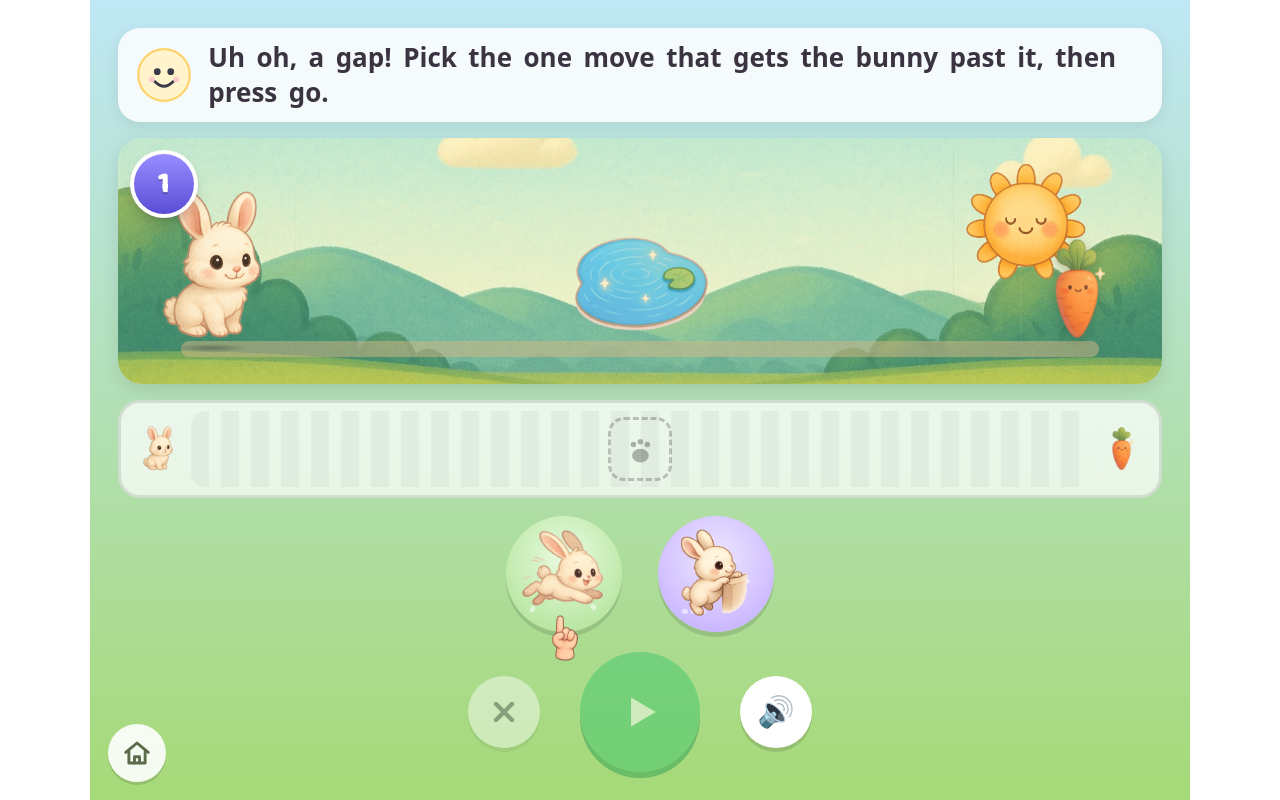
Scenario: Game — scene toys › a toy poked over the win line still lets the win choices appear
Click the button named "Jump".
click(564, 574)  # box [506,516,622,632]
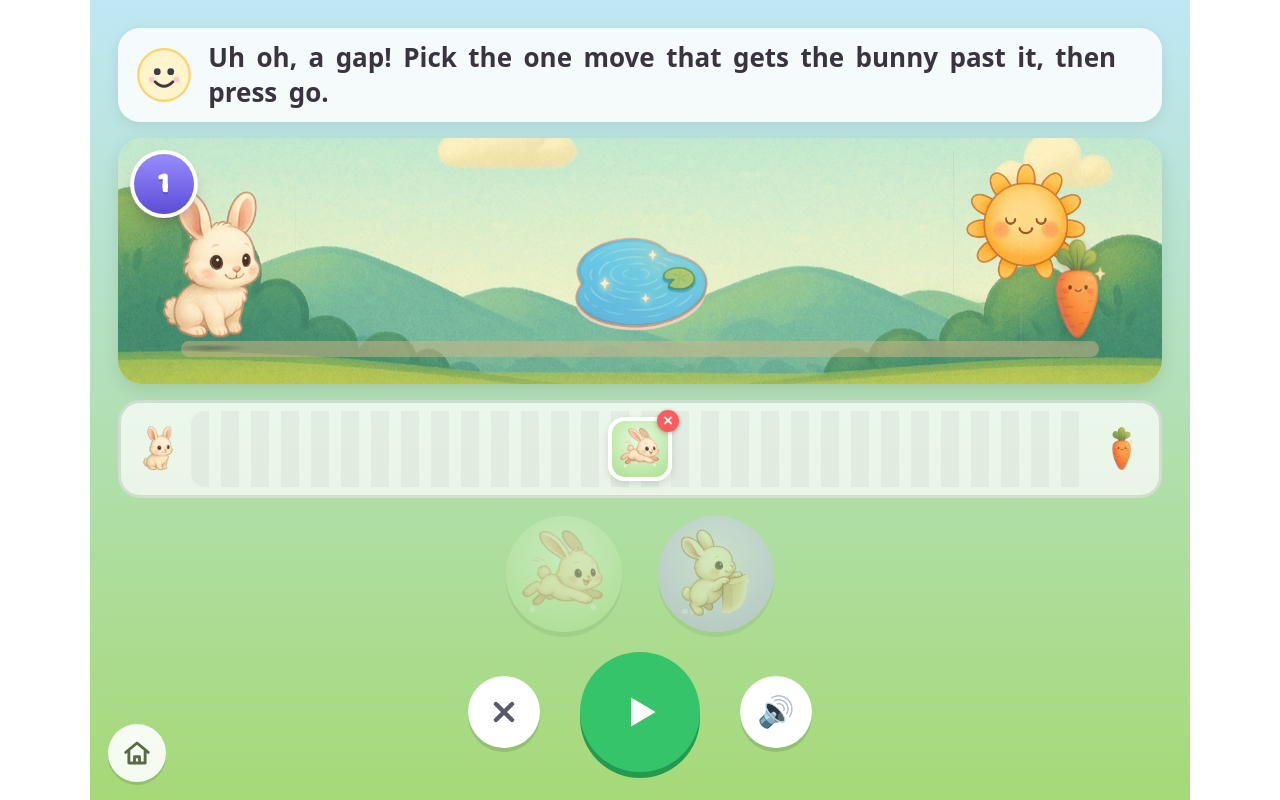
Click the button named "Go".
click(640, 712)  # box [580,652,700,772]
Wait 3000 ms
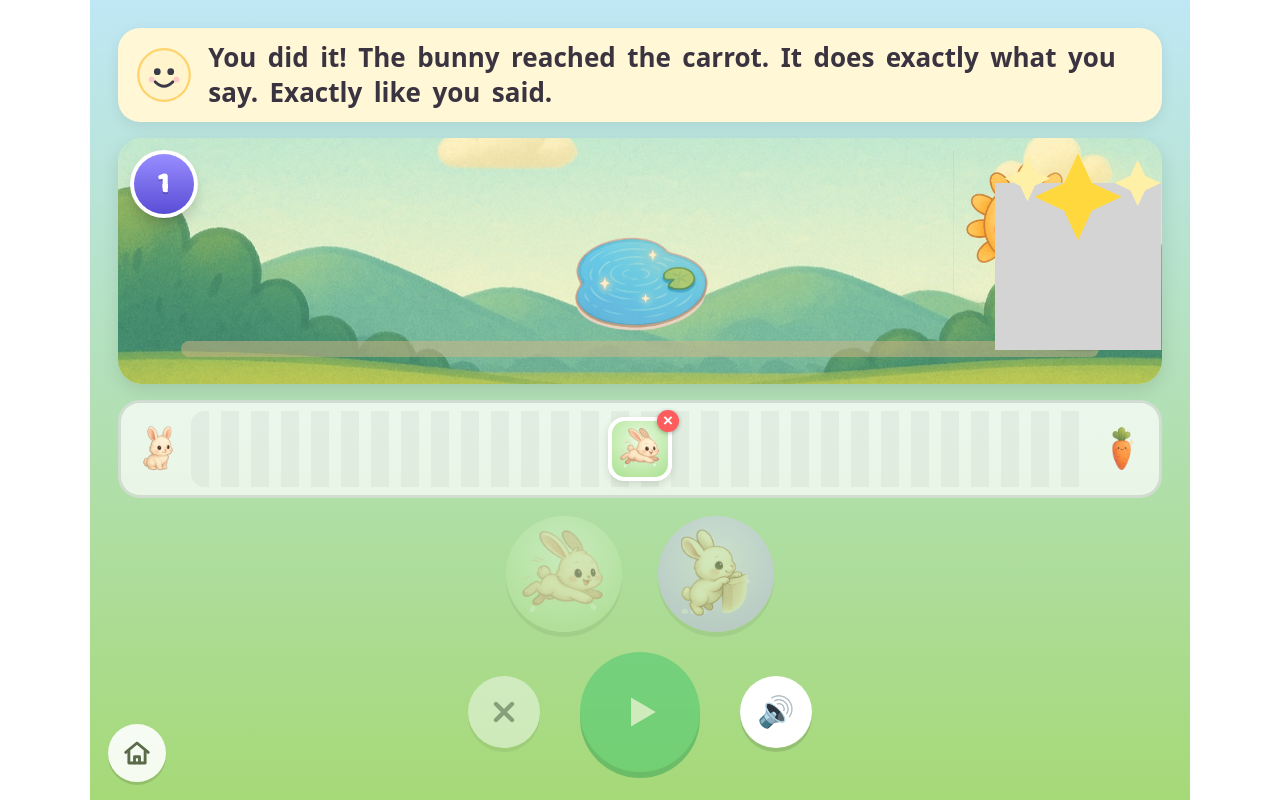
Click the button named "A gap".
click(640, 279)  # box [562,200,718,357]
Wait 20000 ms
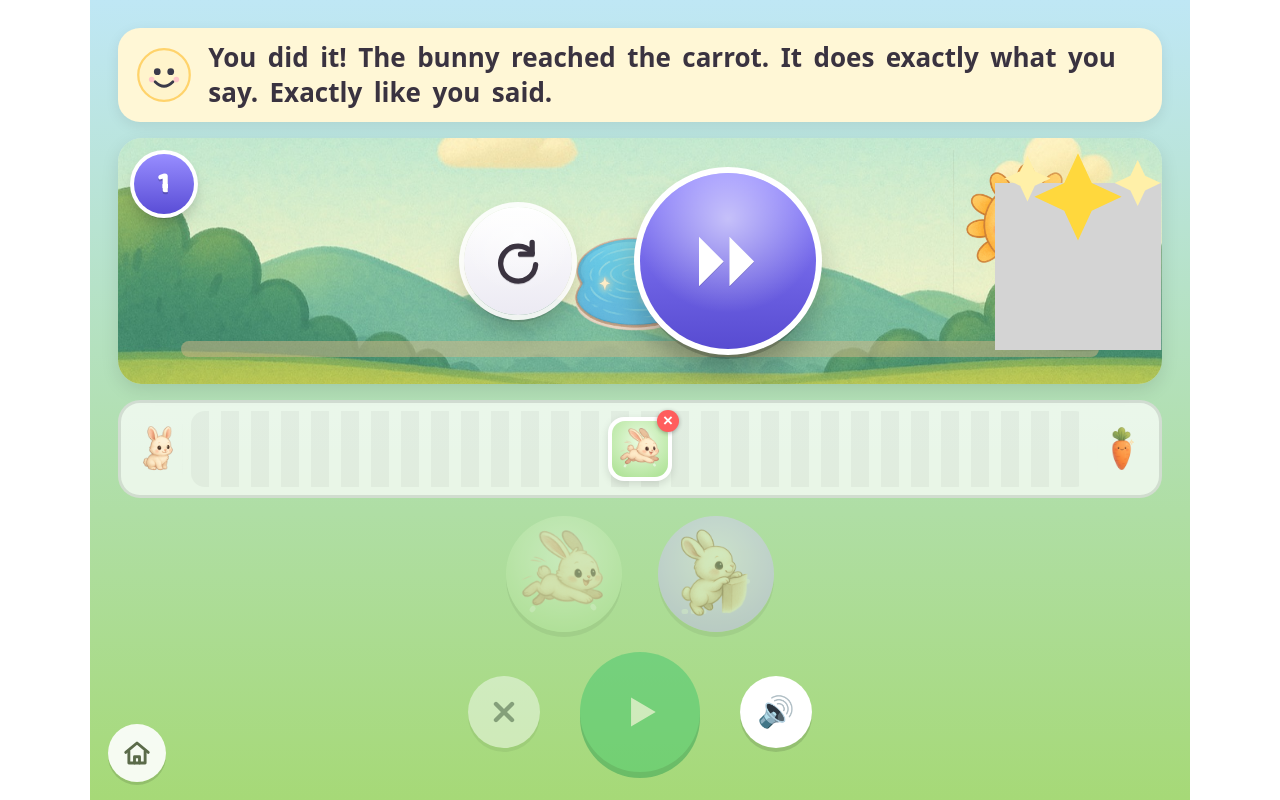
Expected: the button named "Go to the next level" is shown, [640,173,816,349]
